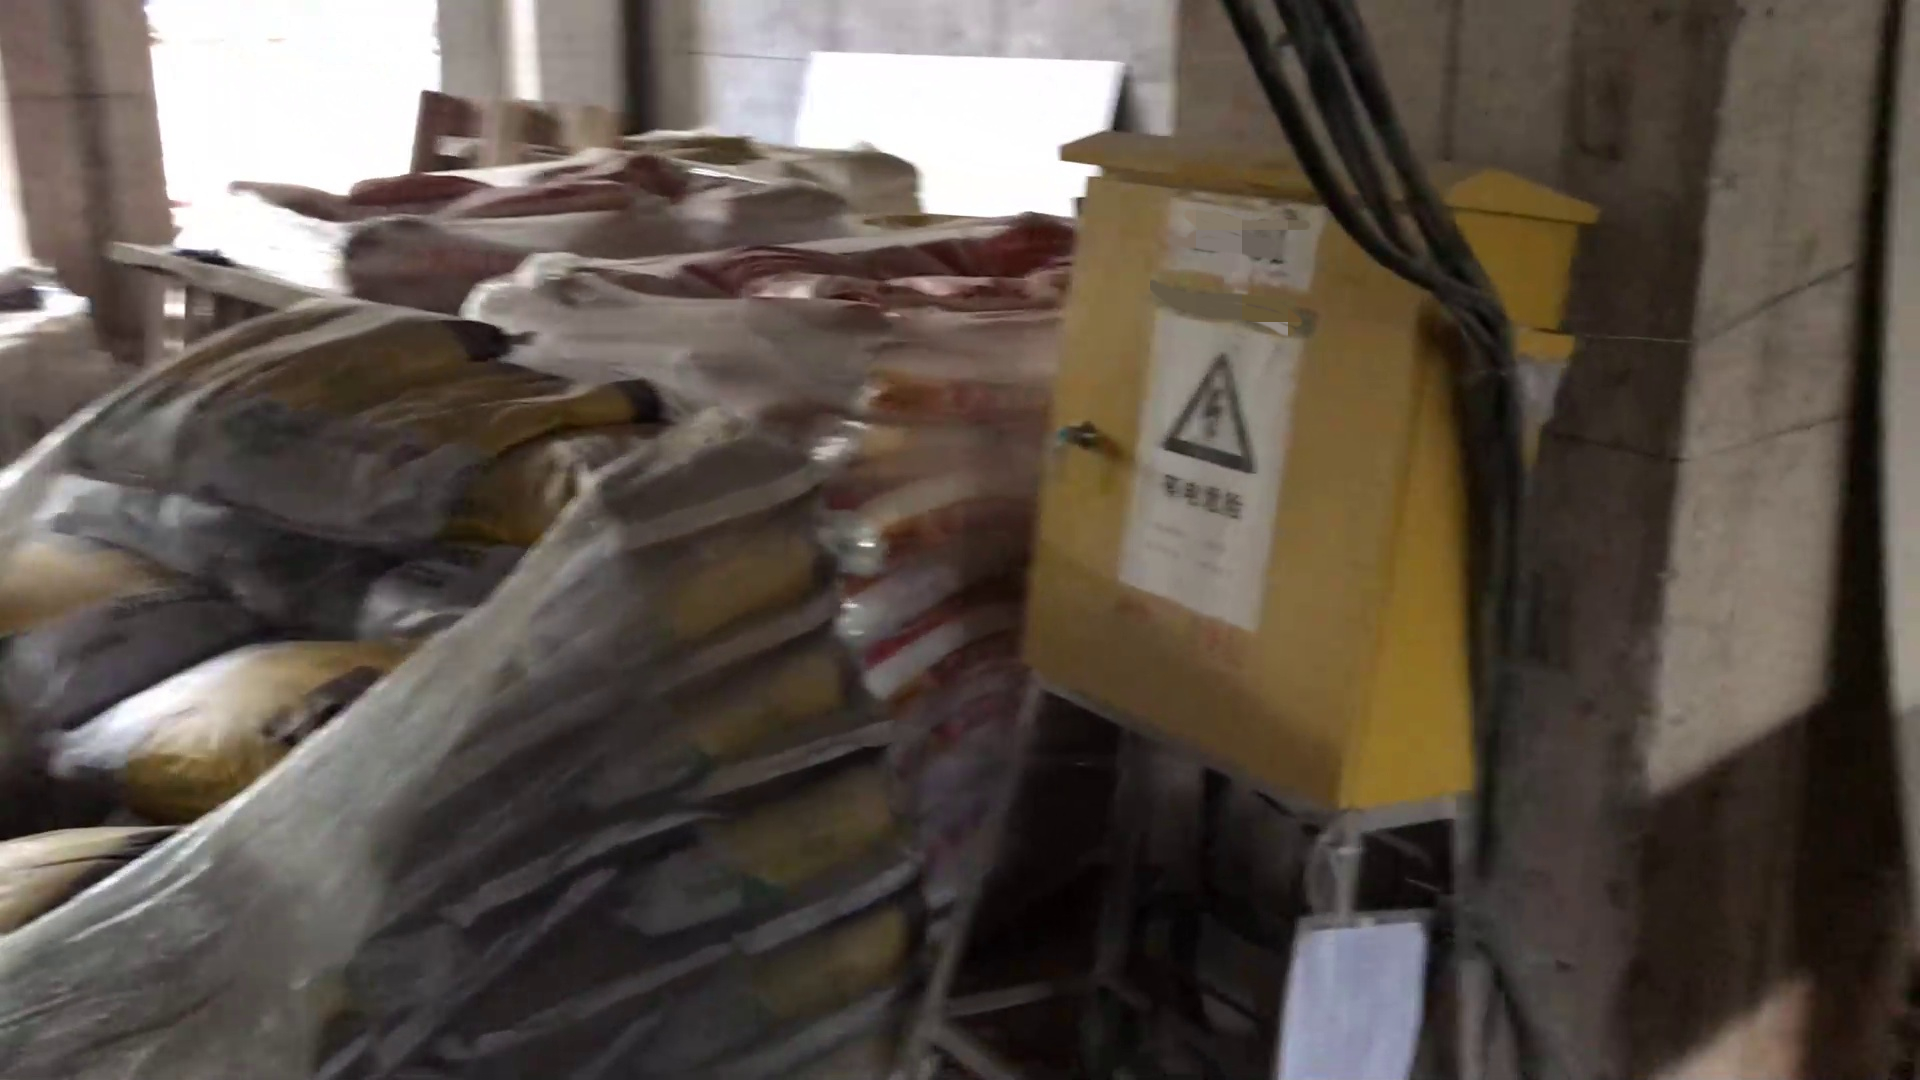ebox: (996, 102, 1607, 849)
